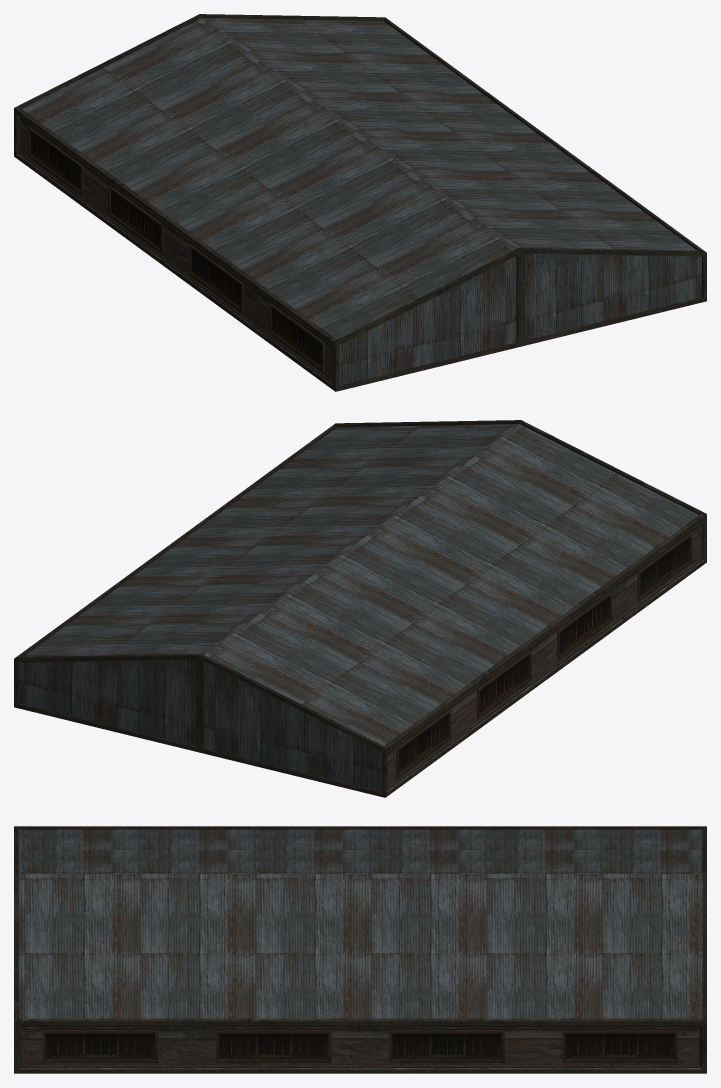
Rendered from roof_mh_4_a_3.obj.
3 views of the same model, one above another, from view 1: azimuth 30°, elevation 25°; view 2: azimuth 150°, elevation 25°; view 3: azimuth 270°, elevation 25° (orthographic). The views are drawn at different scales.
Visible parts, largest first — view 1: roof_mh_4_a_3; view 2: roof_mh_4_a_3; view 3: roof_mh_4_a_3.
Part boxes in pixels (<box>): roof_mh_4_a_3: <box>14,14,706,391</box>; roof_mh_4_a_3: <box>14,420,706,797</box>; roof_mh_4_a_3: <box>14,826,706,1073</box>.
Bounding box in the file's own units: 8 × 2 × 12.
